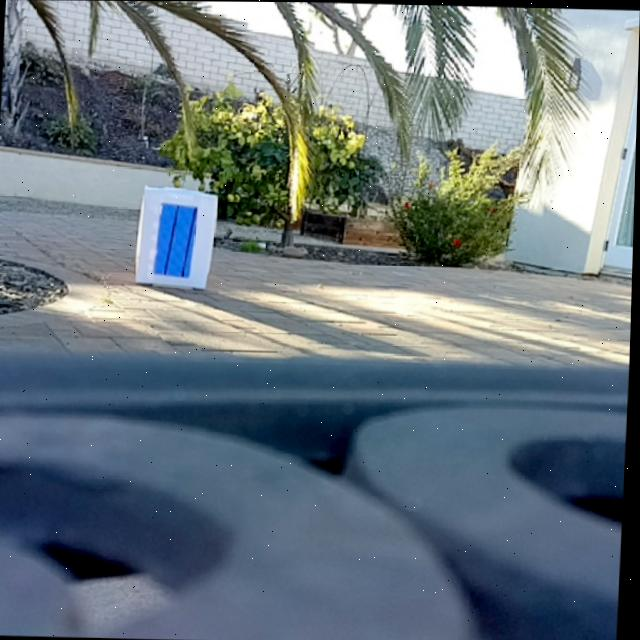led: (154, 203, 198, 277)
